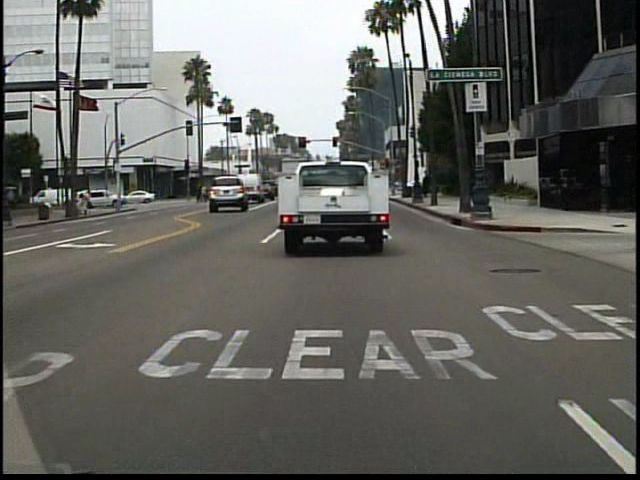person: (84, 187, 97, 213)
